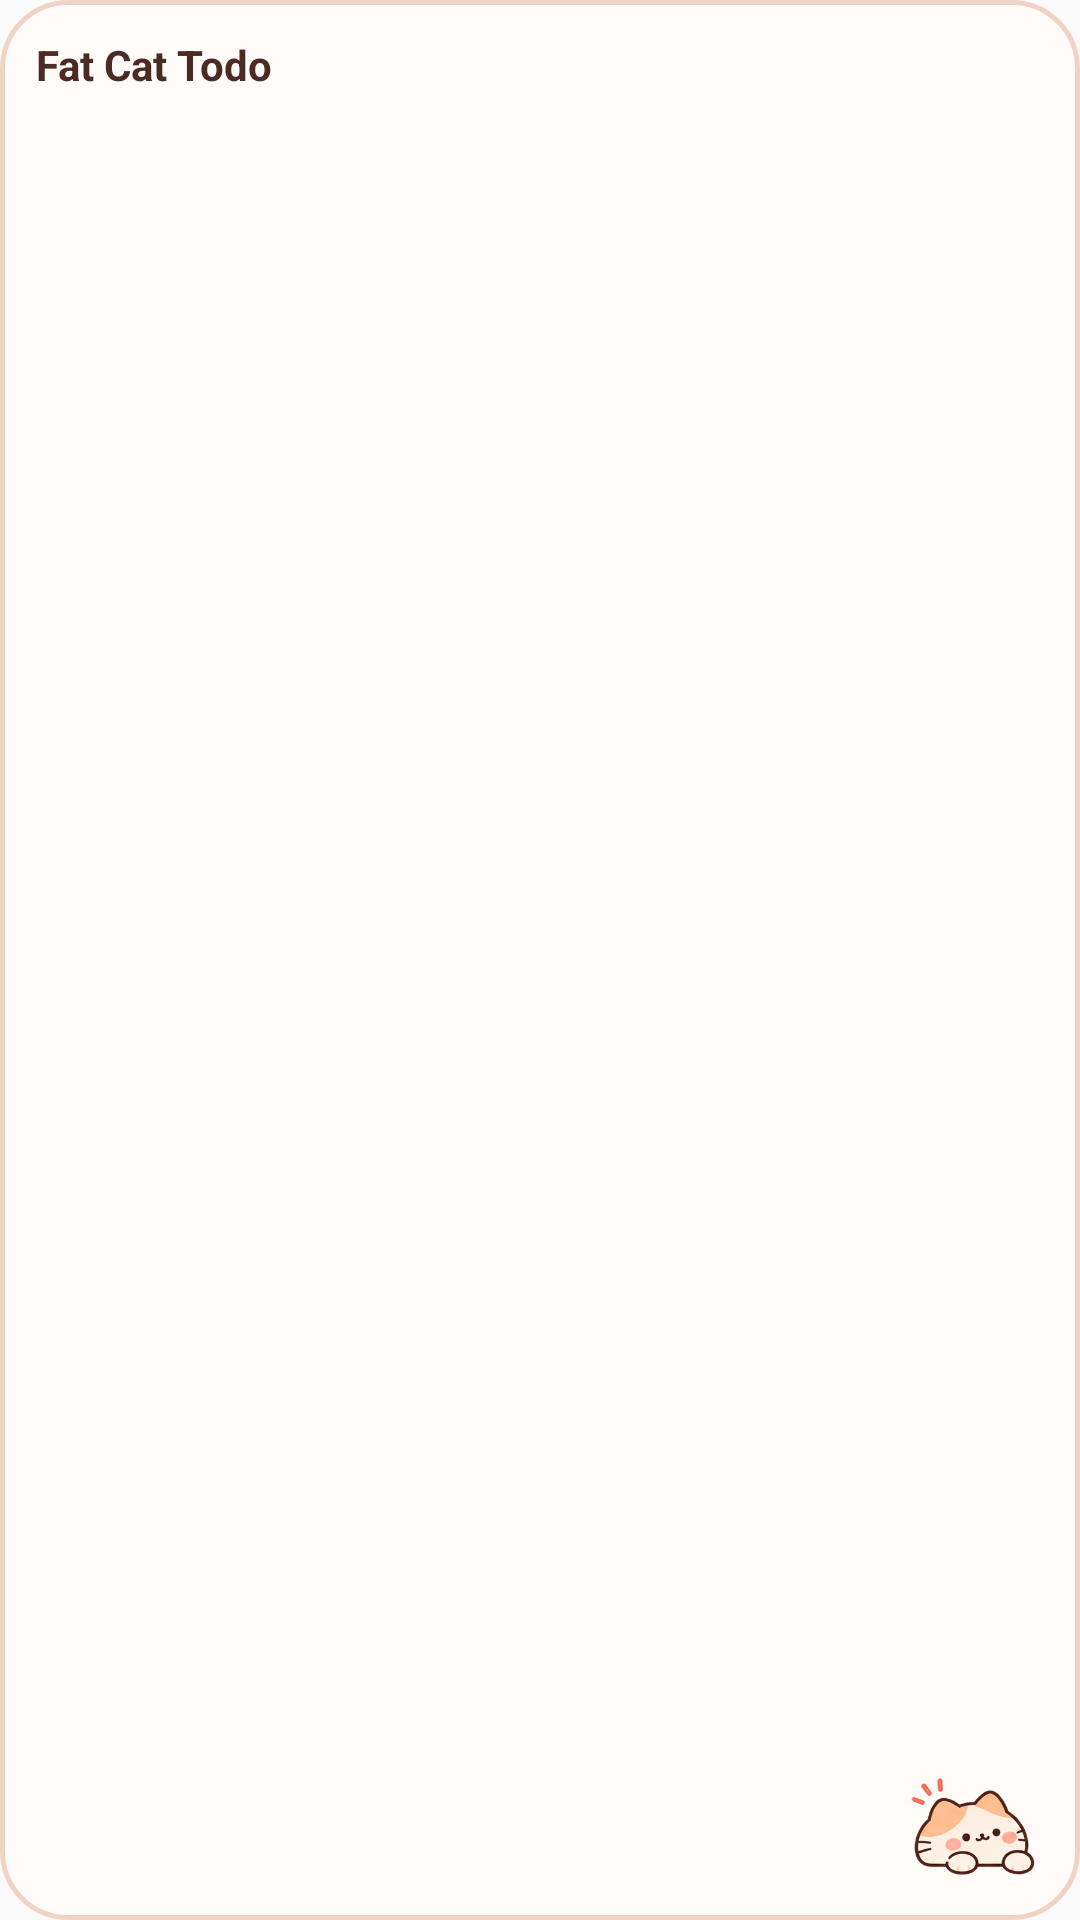

Where icons sit on this 1080×1920 app screen, as [x1=x1, y1=y1, x2=x2, y2=y2]:
widget cat: [x1=911, y1=1778, x2=1035, y2=1875]
